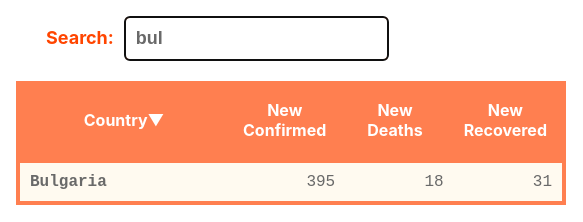
Scenario: Grid › Should search in table
Expected: the text "Bulgaria" is shown, [20,163,237,201]
Replace the text in the field with placeholder "Search for country" with "Cambodia" at (256, 38), box [124,16,389,61]
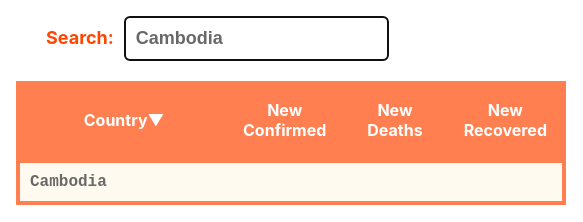
Now the text "Cambodia" is shown, box [20,163,237,201]
